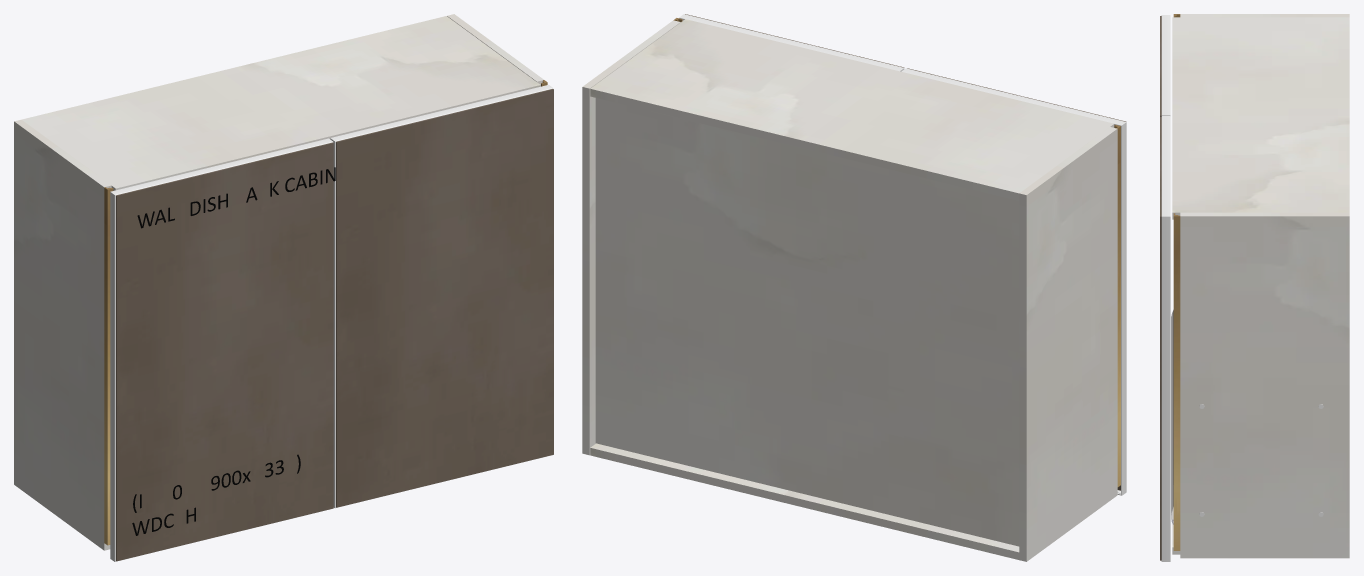
The model's file is WDC2HS_ (H720XW900XD336).glb.
3 views of the same model, side by side, from view 1: azimuth 30°, elevation 25°; view 2: azimuth 150°, elevation 25°; view 3: azimuth 270°, elevation 25° (orthographic). The views are drawn at different scales.
Size of what is drawn, in the model's own units: 0.901 by 0.7185 by 0.366.
Materials: 10 (3 with a texture image).
